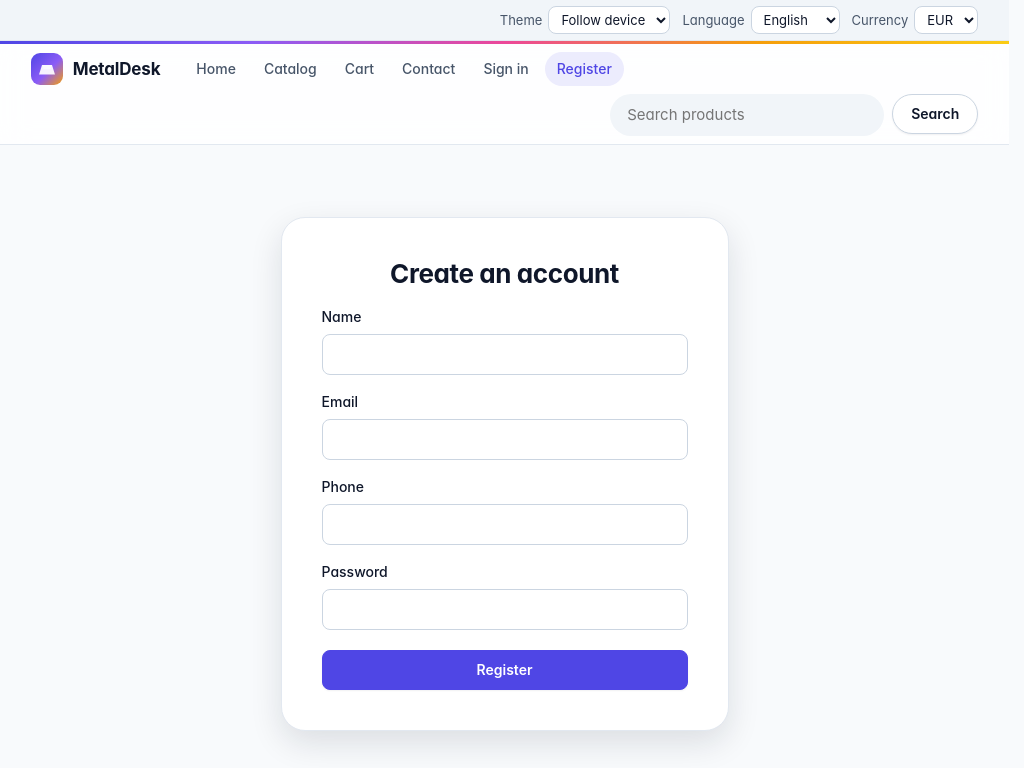
registration and verification › makes no existence or availability request, and explains the verification gate
Type "Ada" into the field labelled "Name".
click(504, 355); type("Ada")  # box [322,334,688,375]
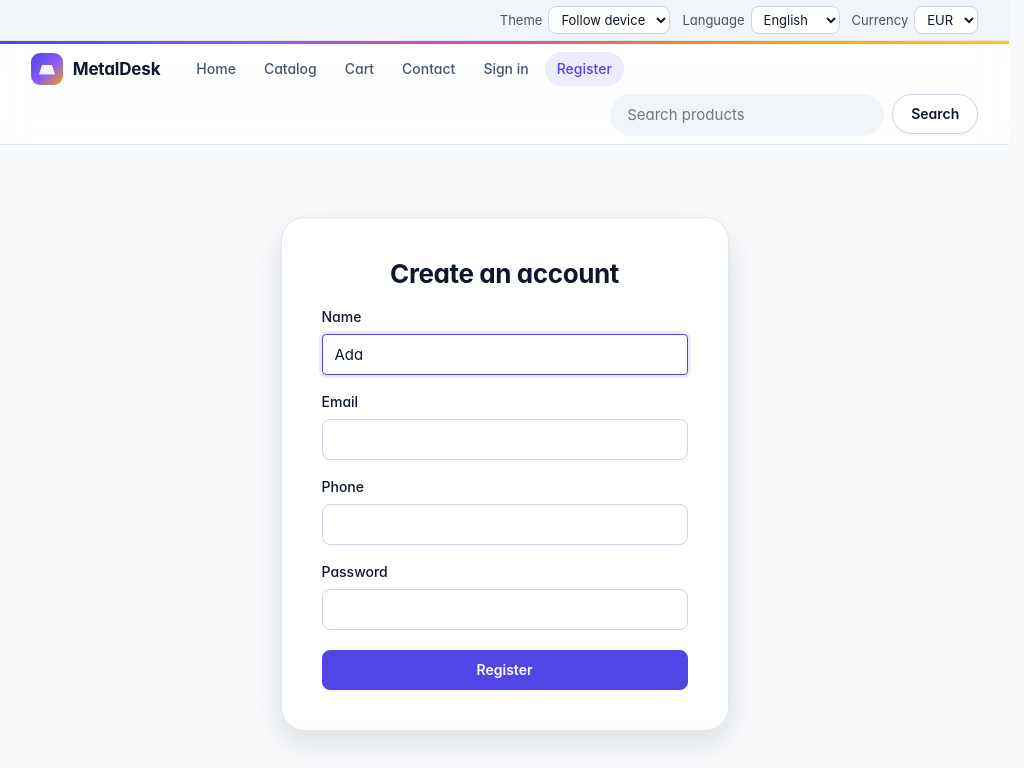
Type "ada@example.test" into the field labelled "Email".
click(504, 440); type("ada@example.test")  # box [322,419,688,460]
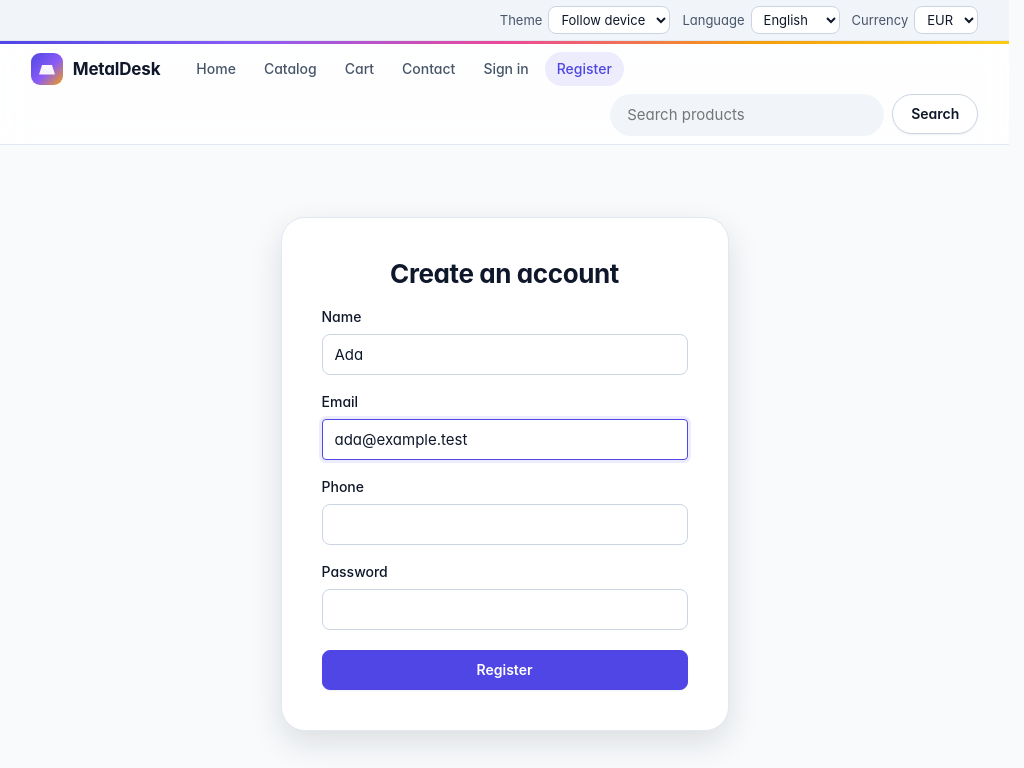
Press Tab
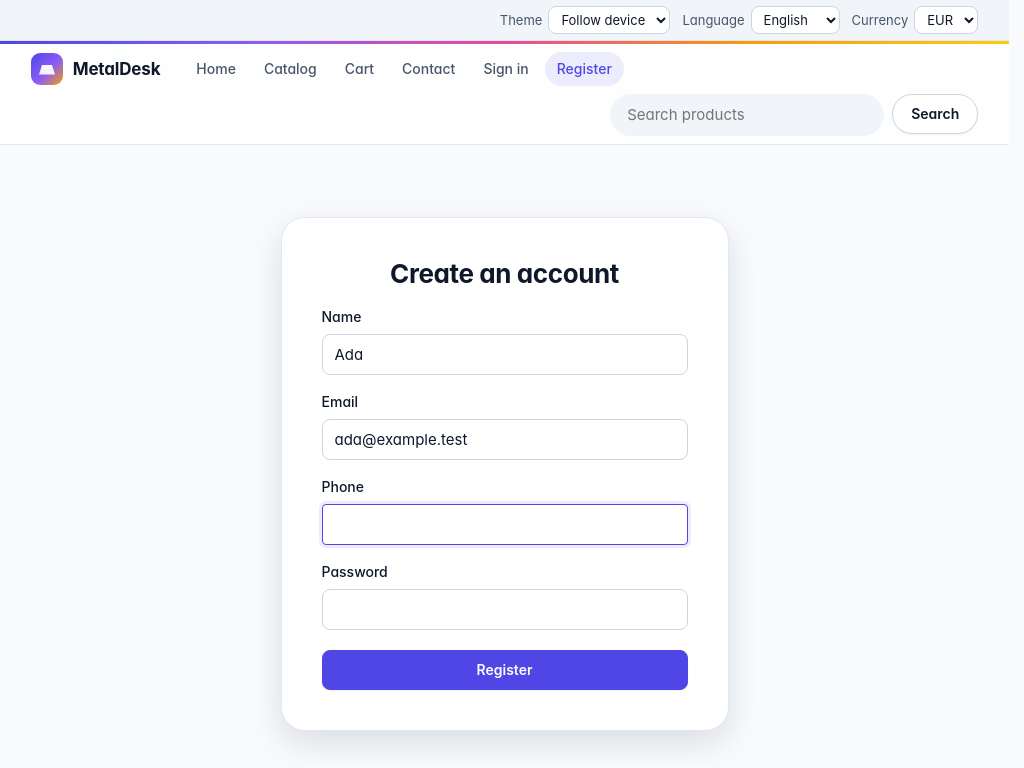
Type "+4930123456" into the field labelled "Phone".
click(504, 525); type("+4930123456")  # box [322,504,688,545]
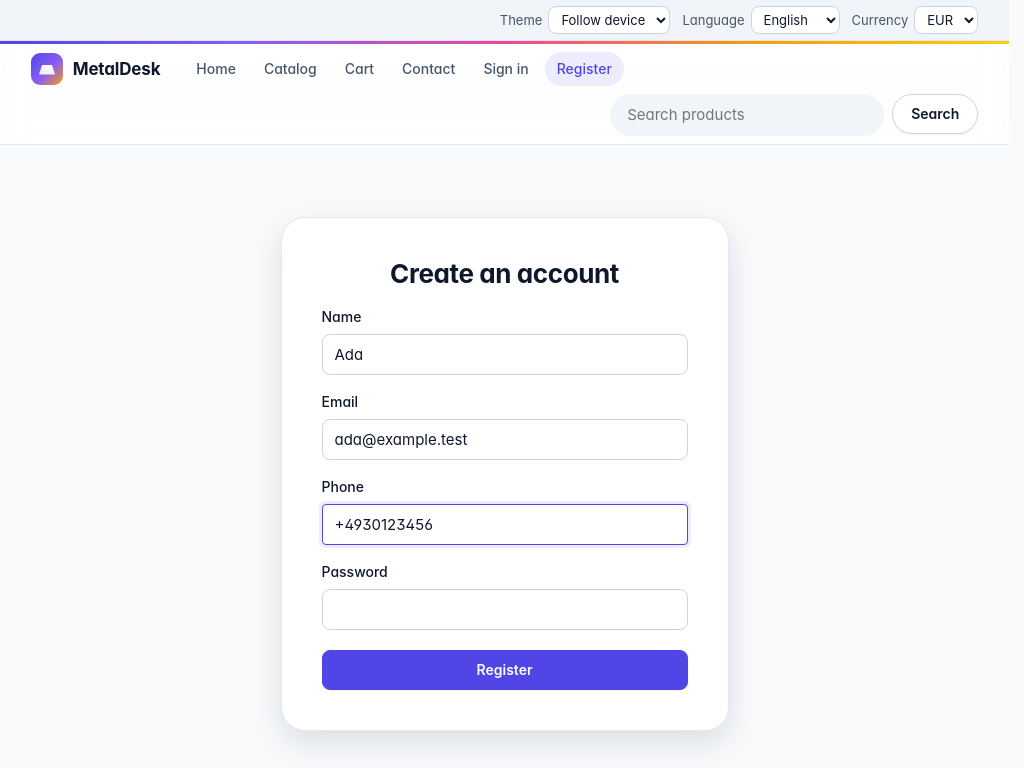
Type "correct horse 9" into the password field labelled "Password".
click(504, 609); type("correct horse 9")  # box [322,589,688,630]
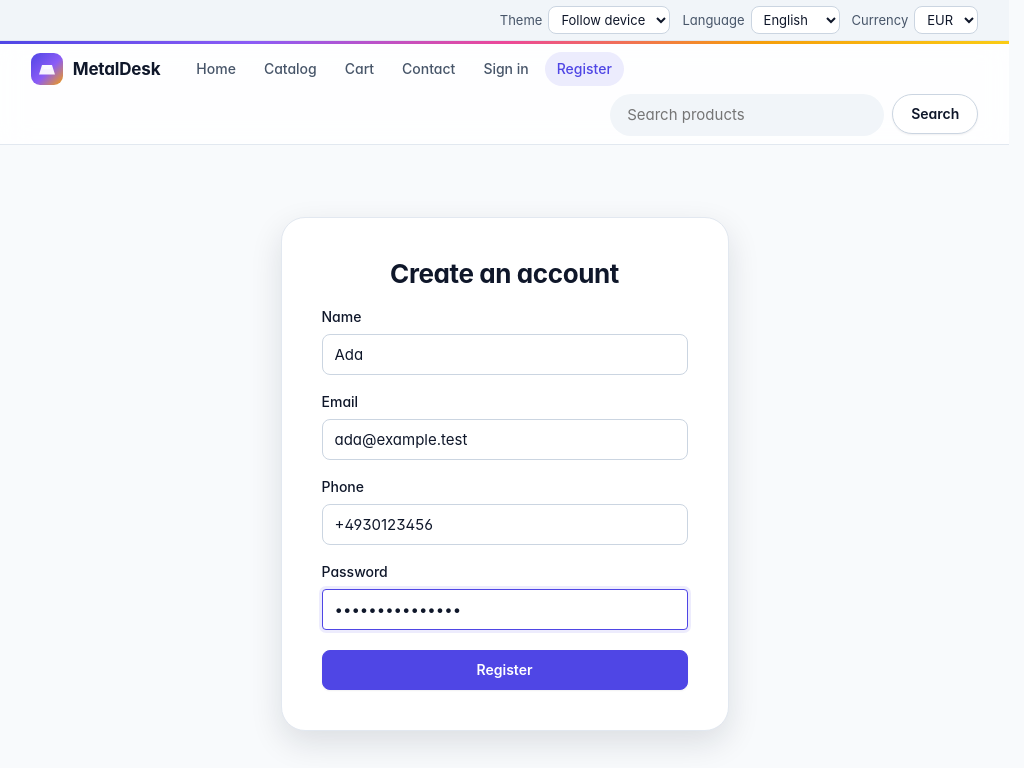
Click the button "Register".
click(504, 670)  # box [322,650,688,690]
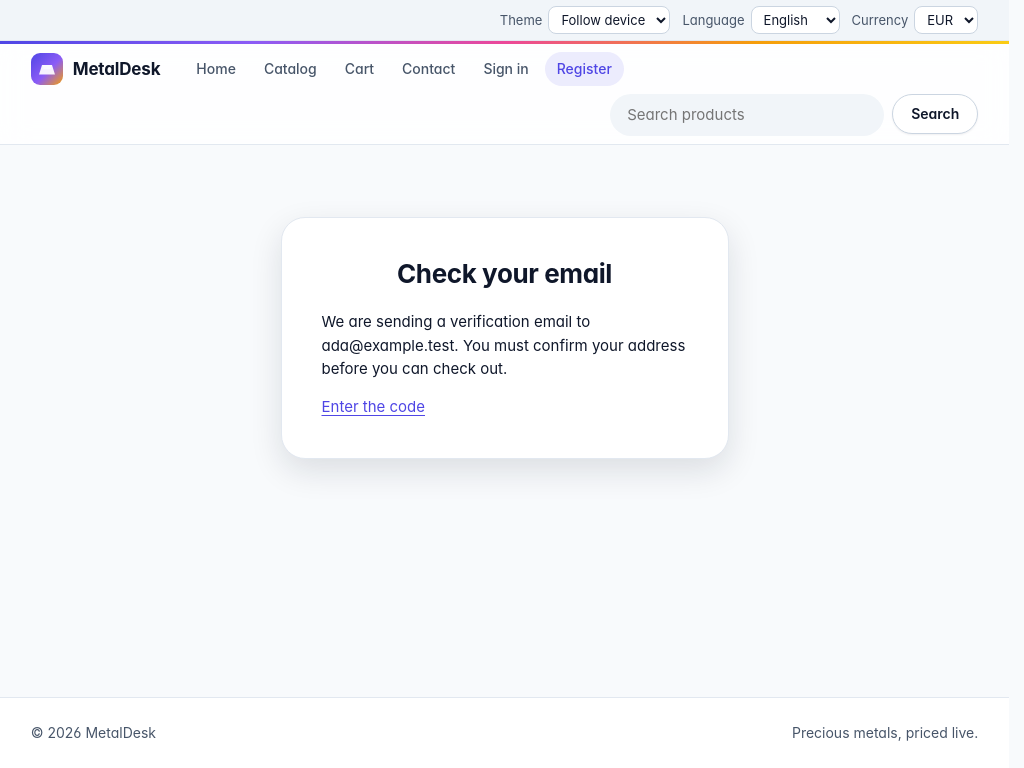
Check: the heading "Check your email" is shown, box [397,258,612,289]
Check: the text "You must confirm your address before you can check out" is shown, box [322,312,685,378]
